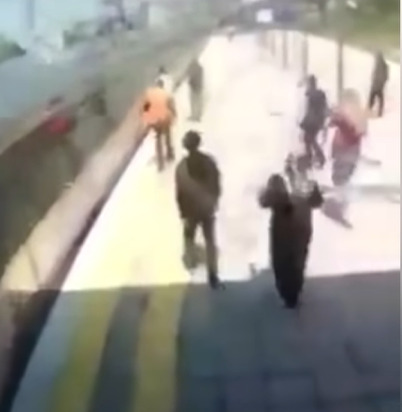person: (256, 149, 326, 310), (172, 128, 226, 291), (140, 77, 177, 172), (295, 69, 330, 169), (178, 55, 210, 125), (365, 51, 395, 118)
